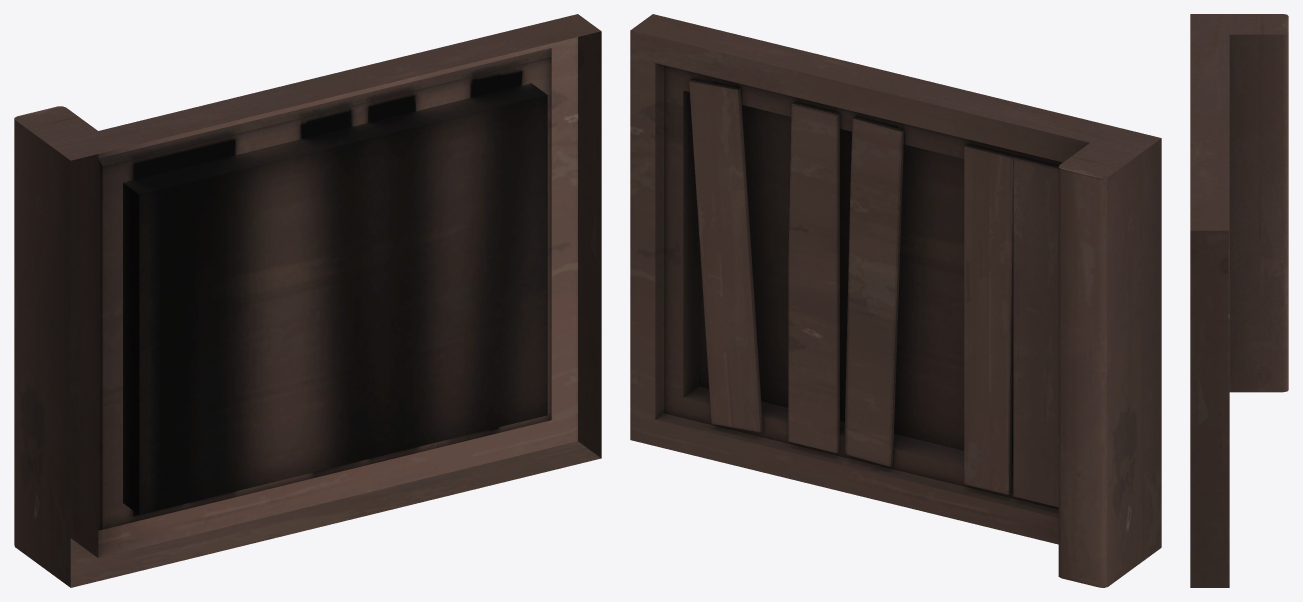
The model's file is props_coalmines_window6.glb.
3 renders of one model, left to right at view 1: azimuth 30°, elevation 25°; view 2: azimuth 150°, elevation 25°; view 3: azimuth 270°, elevation 25°, orthographic. The views are drawn at different scales.
Visible parts, largest first — view 1: models/props_coalmines/window6; view 2: models/props_coalmines/window6; view 3: models/props_coalmines/window6.
Boxes of the visible parts, x1,y1,x2,y2 form: models/props_coalmines/window6: (14, 14, 601, 587); models/props_coalmines/window6: (630, 14, 1161, 587); models/props_coalmines/window6: (1190, 14, 1288, 587).
Size of the model in its own units: 52 by 40 by 10.
Materials: 1 (1 with a texture image).
